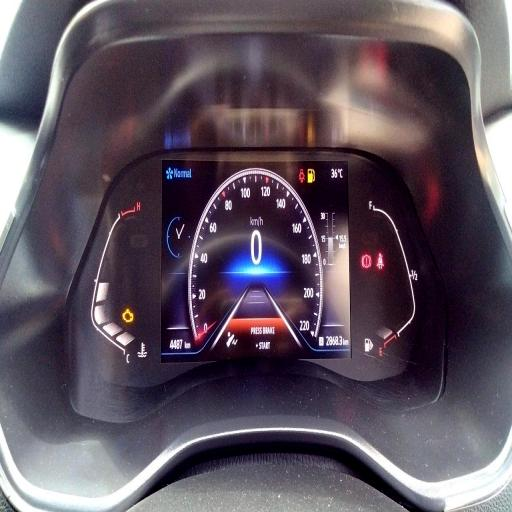belt: (377, 253, 384, 270)
brake_system_fault: (362, 254, 371, 268)
check_engine: (123, 308, 133, 323)
